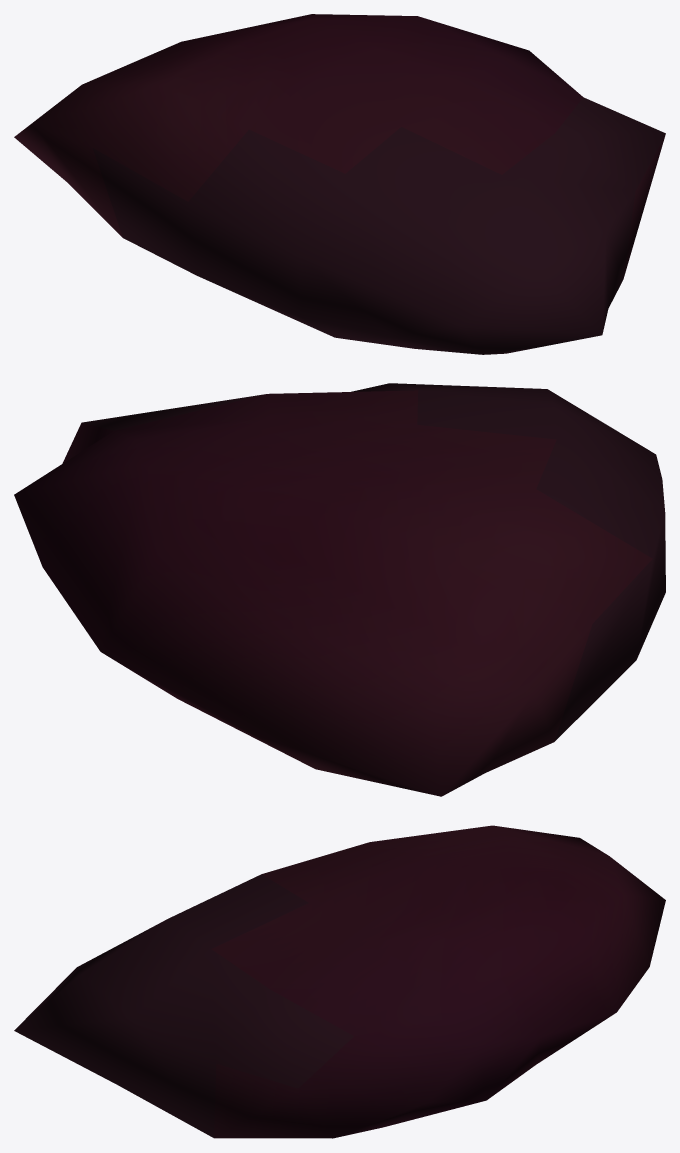
File: terrain-abyss-chancel-object-035.obj
The picture shows the model from 3 angles, top to bottom: view 1: azimuth 30°, elevation 25°; view 2: azimuth 150°, elevation 25°; view 3: azimuth 270°, elevation 25°; orthographic projection. The views are drawn at different scales.
Parts seen in each view (by area): view 1: terrain-abyss-chancel-object-035; view 2: terrain-abyss-chancel-object-035; view 3: terrain-abyss-chancel-object-035.
Boxes of the visible parts, <box> form: terrain-abyss-chancel-object-035: <box>14,14,665,354</box>; terrain-abyss-chancel-object-035: <box>14,383,665,796</box>; terrain-abyss-chancel-object-035: <box>14,825,665,1138</box>.
Size of the model in its own units: 0.00818 by 0.00336 by 0.00981.
